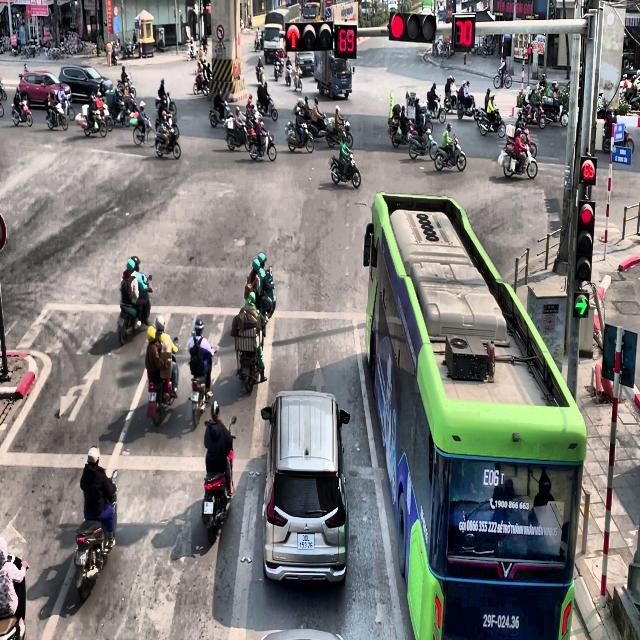BUS: (362, 191, 586, 639)
CAR: (260, 389, 350, 585), (18, 70, 72, 108), (58, 65, 113, 102)
MOTORBIKE: (74, 471, 118, 602), (202, 417, 236, 544), (147, 337, 178, 427), (117, 275, 152, 345), (234, 314, 265, 392), (188, 348, 216, 428), (501, 142, 538, 179), (434, 133, 466, 171), (329, 152, 361, 188), (256, 266, 276, 318), (408, 127, 438, 160), (247, 128, 276, 161), (285, 120, 314, 153), (155, 124, 181, 160), (477, 106, 506, 138), (540, 96, 568, 128), (224, 115, 249, 150), (80, 106, 107, 138), (326, 118, 353, 149), (92, 94, 114, 132), (388, 115, 413, 148), (45, 96, 68, 131), (520, 99, 546, 129), (133, 114, 156, 147), (209, 99, 233, 128), (255, 93, 278, 122), (10, 98, 32, 126), (425, 95, 446, 124), (55, 91, 75, 120), (120, 96, 139, 126), (307, 112, 328, 138), (457, 91, 476, 119), (493, 64, 512, 88), (193, 70, 209, 95), (443, 88, 458, 114), (162, 92, 176, 115), (294, 68, 302, 92), (256, 64, 265, 84), (187, 44, 198, 60), (285, 64, 292, 86), (0, 78, 7, 100)
TRAFFIC_LIGHT: (574, 198, 594, 282), (388, 10, 437, 43), (285, 21, 334, 51), (451, 13, 476, 51), (334, 23, 356, 58), (579, 155, 597, 185)
